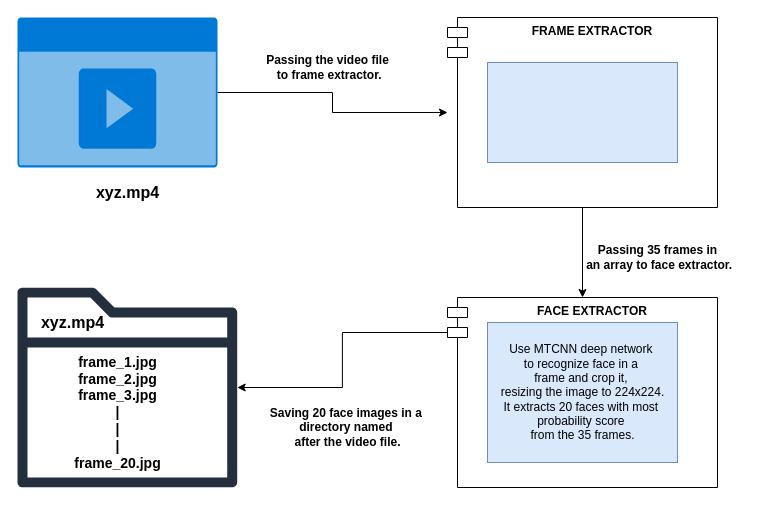
Some shapes in this 759 by 505 pixel diagram are drawn without their labels. The shapes that lost their labels are listed below. From the top down, each one's centre as x and y in pixels, then its label:
At [117,92]: "Video".
At [582,112]: "Extracts 35 evenly spaced frames from any video named xyz.".
